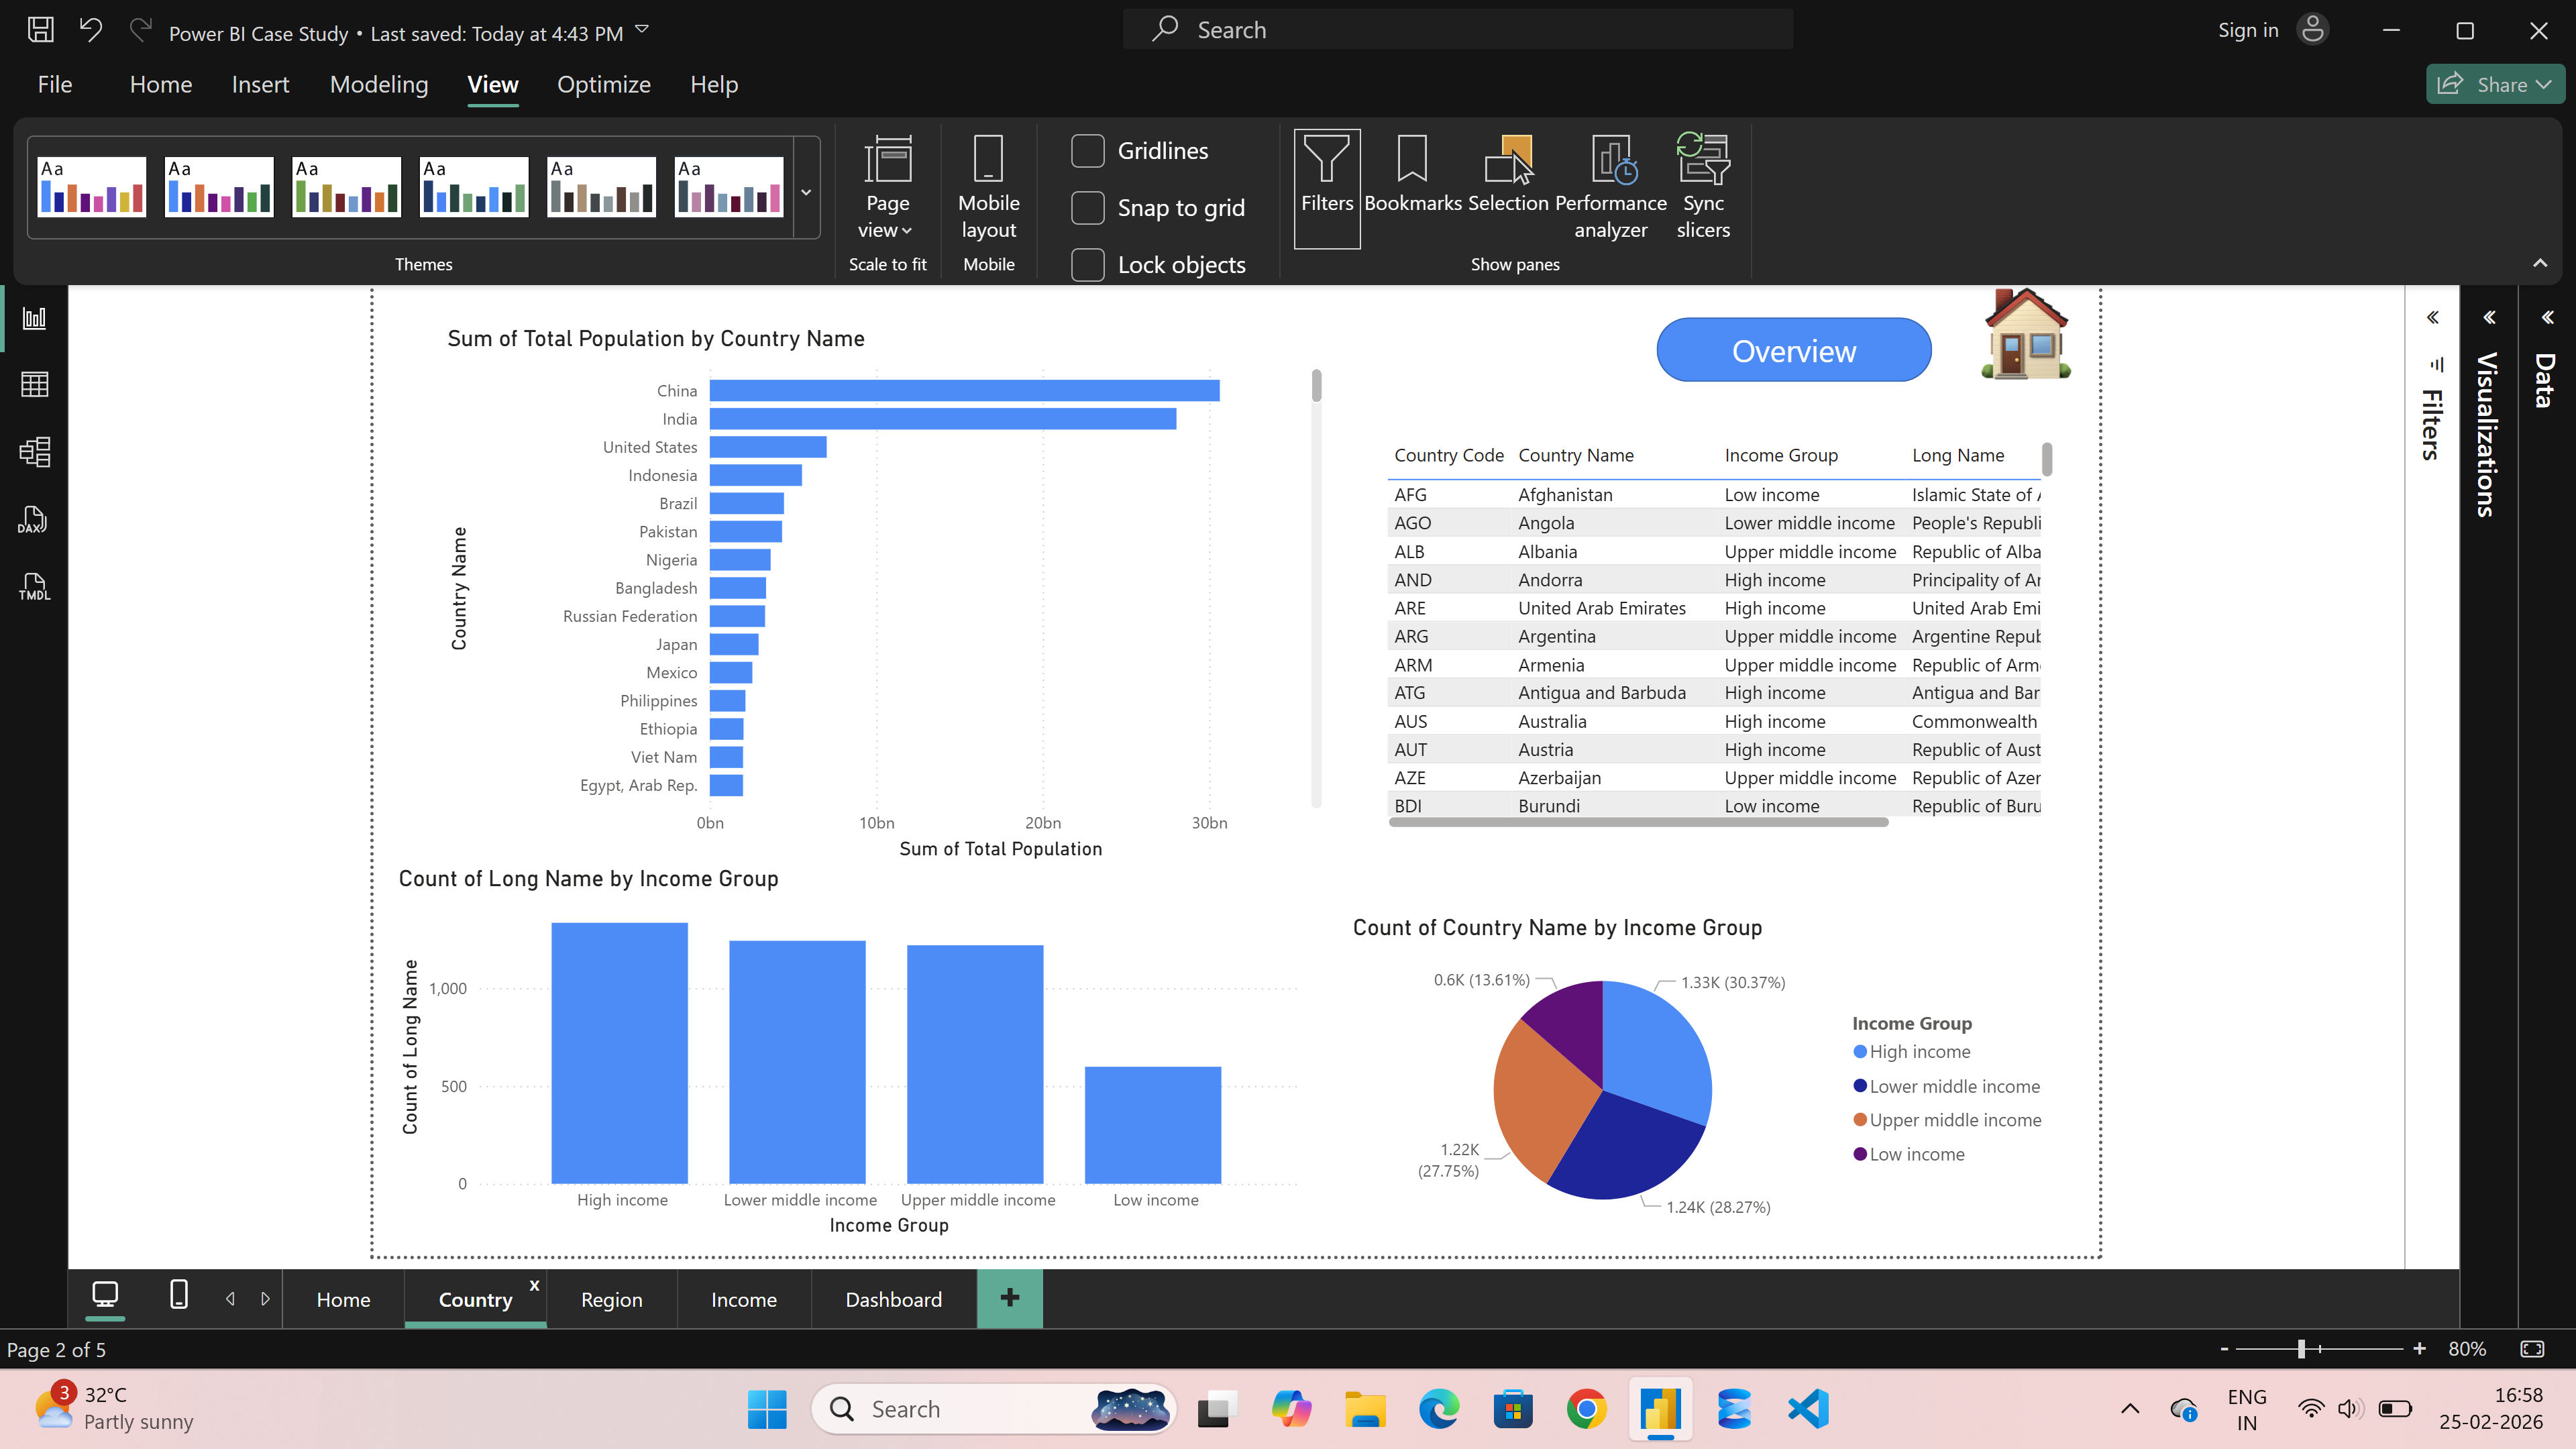

The dashboard page shown, as its layout file describes it:
{"tool":"powerbi","page":{"name":"Country","canvas":[1280,720],"ordinal":1},"visuals":[{"type":"barChart","fields":{"Category":["data.Country Name"],"Y":["Sum(data.Total Population)"]},"box":[49.9,29.9,658.5,400.5],"z":0},{"type":"columnChart","fields":{"Category":["data.Income Group"],"Y":["CountNonNull(data.Long Name)"]},"box":[14.3,430.5,677.1,279.4],"z":1000},{"type":"pieChart","fields":{"Category":["data.Income Group"],"Y":["CountNonNull(data.Country Name)"]},"box":[721.2,466.1,530.2,242.3],"z":2000},{"type":"tableEx","fields":{"Values":["data.Country Code","data.Country Name","data.Income Group","data.Long Name"]},"box":[746.3,110.4,504.5,297],"z":3000},{"type":"image","box":[1170.1,0,110.4,71.6],"z":4000},{"type":"shape","title":"Overview","box":[952.2,0,204.5,71.6],"z":5000}]}

Visuals, with their boxes on the page's 1280x720 design canvas (x1, y1, x2, y2). These are canvas units, not pixel positions in the 2576x1449 screenshot, which may show the page scaled, cropped or inside an application window:
barChart - data.Country Name x Sum(data.Total Population): left=50, top=30, right=708, bottom=430
columnChart - data.Income Group x CountNonNull(data.Long Name): left=14, top=430, right=691, bottom=710
pieChart - data.Income Group x CountNonNull(data.Country Name): left=721, top=466, right=1251, bottom=708
tableEx - data.Country Code x data.Country Name: left=746, top=110, right=1251, bottom=407
image: left=1170, top=0, right=1280, bottom=72
"Overview" shape: left=952, top=0, right=1157, bottom=72
